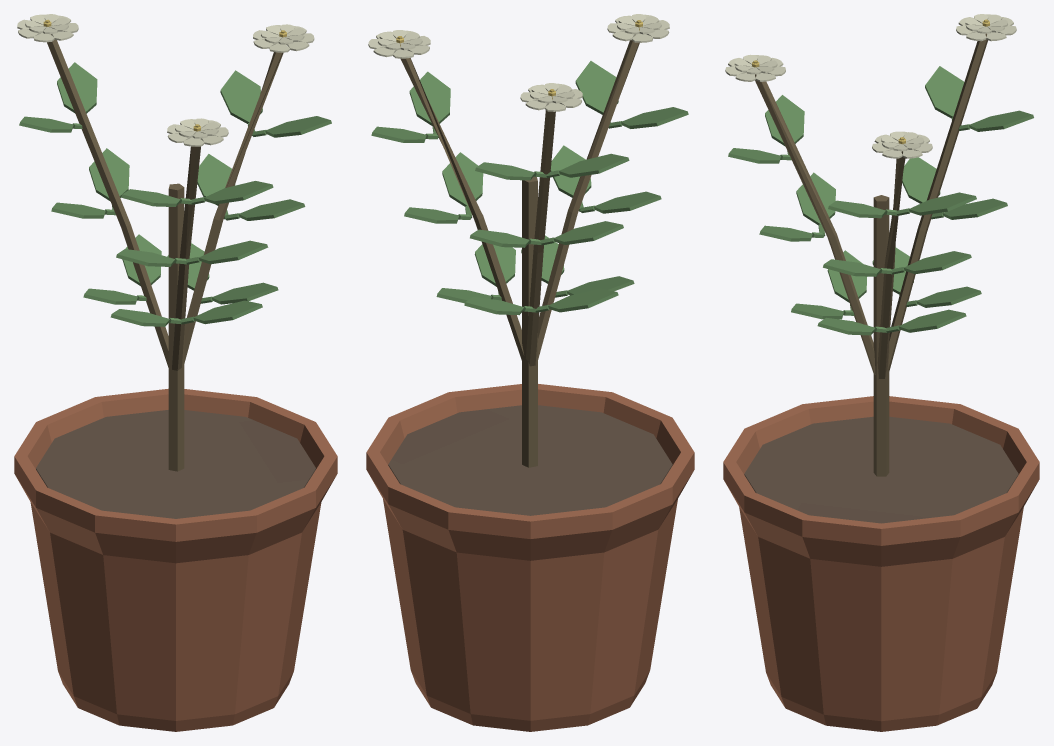
The model's file is jasmine.glb.
3 renders of one model, left to right at view 1: azimuth 30°, elevation 25°; view 2: azimuth 150°, elevation 25°; view 3: azimuth 270°, elevation 25°, orthographic. The views are drawn at different scales.
Visible parts, largest first — view 1: jasmine/review-terra-vessel, jasmine/review-rooted-soil, jasmine/petiole-001, jasmine/stem-031, jasmine/stem-002, jasmine/stem-060, jasmine/leaf-014, jasmine/leaf-041, jasmine/leaf-037, jasmine/leaf-010, jasmine/leaf-068, jasmine/leaf-072 (+11 smaller); view 2: jasmine/review-terra-vessel, jasmine/review-rooted-soil, jasmine/petiole-001, jasmine/stem-060, jasmine/stem-002, jasmine/stem-031, jasmine/leaf-072, jasmine/leaf-012, jasmine/leaf-008, jasmine/leaf-004, jasmine/leaf-068, jasmine/leaf-039 (+10 smaller); view 3: jasmine/review-terra-vessel, jasmine/review-rooted-soil, jasmine/petiole-001, jasmine/stem-031, jasmine/stem-060, jasmine/stem-002, jasmine/leaf-043, jasmine/leaf-039, jasmine/leaf-070, jasmine/leaf-066, jasmine/leaf-010, jasmine/leaf-006 (+11 smaller).
Boxes of the visible parts, x1,y1,x2,y2 form: jasmine/review-terra-vessel: (14, 388, 337, 731); jasmine/review-rooted-soil: (36, 410, 315, 518); jasmine/petiole-001: (168, 183, 184, 471); jasmine/stem-031: (47, 35, 168, 367); jasmine/stem-002: (184, 52, 283, 363); jasmine/stem-060: (172, 146, 200, 370); jasmine/leaf-014: (220, 70, 262, 123); jasmine/leaf-041: (57, 62, 97, 113); jasmine/leaf-037: (89, 148, 129, 201); jasmine/leaf-010: (197, 154, 235, 205); jasmine/leaf-068: (198, 240, 268, 264); jasmine/leaf-072: (204, 181, 273, 204); jasmine/review-terra-vessel: (366, 384, 694, 731); jasmine/review-rooted-soil: (388, 405, 672, 515); jasmine/petiole-001: (522, 176, 537, 467); jasmine/stem-060: (538, 35, 639, 359); jasmine/stem-002: (400, 58, 524, 360); jasmine/stem-031: (525, 104, 555, 366); jasmine/leaf-072: (575, 61, 618, 114); jasmine/leaf-012: (409, 71, 450, 125); jasmine/leaf-008: (442, 152, 483, 206); jasmine/leaf-004: (474, 244, 515, 286); jasmine/leaf-068: (550, 145, 591, 197); jasmine/leaf-039: (553, 221, 623, 244); jasmine/review-terra-vessel: (723, 396, 1039, 731); jasmine/review-rooted-soil: (744, 416, 1018, 523); jasmine/petiole-001: (873, 195, 889, 476); jasmine/stem-031: (888, 33, 988, 370); jasmine/stem-060: (755, 74, 875, 374); jasmine/stem-002: (877, 151, 905, 378); jasmine/leaf-043: (925, 66, 964, 118); jasmine/leaf-039: (902, 157, 940, 203); jasmine/leaf-070: (765, 95, 804, 146); jasmine/leaf-066: (796, 172, 835, 225); jasmine/leaf-010: (904, 251, 971, 274); jasmine/leaf-006: (898, 309, 966, 332).
Size of the model in its own units: 0.2737 by 0.592 by 0.27.
Materials: 6 (6 with a texture image).
